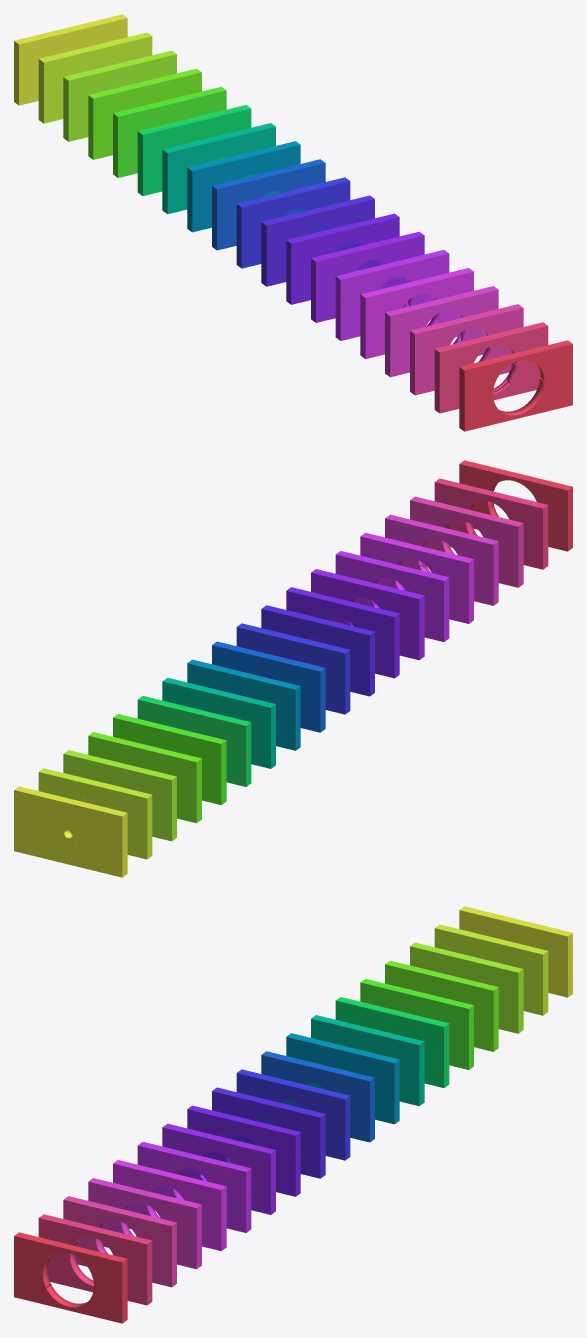
Rendered from FinalHoles.fbx.
3 views of the same model, one above another, from view 1: azimuth 30°, elevation 25°; view 2: azimuth 150°, elevation 25°; view 3: azimuth 330°, elevation 25° (orthographic).
Visible parts, largest first — view 1: Cube.007_cell.004, Cube.012_cell.001, Cube.014_cell, Cube.013_cell, Cube.016_cell.002, Cube.011_cell, Cube.017_cell, Cube.002_cell.003, Cube.015_cell.003, Cube.002_cell.001, Cube.005_cell.001, Cube.012_cell.003 (+44 smaller); view 2: Cube.019_cell.001, Cube.007_cell.004, Cube.012_cell.001, Cube.019_cell, Cube.017_cell, Cube.014_cell, Cube.011_cell, Cube.015_cell.003, Cube.016_cell.002, Cube.013_cell, Cube.002_cell.003, Cube.002_cell.001 (+43 smaller); view 3: Cube.005_cell.001, Cube.018_cell, Cube.012_cell.003, Cube.002_cell.001, Cube.006_cell.001, Cube.004_cell, Cube.009_cell.002, Cube.019_cell.001, Cube.015_cell.003, Cube.002_cell.003, Cube_cell.004, Cube.010_cell.003 (+46 smaller).
Part boxes in pixels (<box>): Cube.007_cell.004: <box>311,245,367,319</box>; Cube.012_cell.001: <box>187,157,238,232</box>; Cube.014_cell: <box>137,120,196,188</box>; Cube.013_cell: <box>162,145,212,214</box>; Cube.016_cell.002: <box>88,90,134,159</box>; Cube.011_cell: <box>212,180,258,250</box>; Cube.017_cell: <box>63,67,110,138</box>; Cube.002_cell.003: <box>434,345,495,413</box>; Cube.015_cell.003: <box>143,86,226,129</box>; Cube.002_cell.001: <box>449,322,548,362</box>; Cube.005_cell.001: <box>401,268,473,337</box>; Cube.012_cell.003: <box>229,141,300,178</box>; Cube.019_cell.001: <box>14,786,87,832</box>; Cube.007_cell.004: <box>365,583,424,657</box>; Cube.012_cell.001: <box>245,676,300,750</box>; Cube.019_cell: <box>14,823,105,873</box>; Cube.017_cell: <box>120,769,176,841</box>; Cube.014_cell: <box>197,710,251,775</box>; Cube.011_cell: <box>279,663,325,732</box>; Cube.015_cell.003: <box>113,714,196,756</box>; Cube.016_cell.002: <box>155,753,201,823</box>; Cube.013_cell: <box>233,698,275,768</box>; Cube.002_cell.003: <box>508,501,548,569</box>; Cube.002_cell.001: <box>434,478,533,522</box>; Cube.005_cell.001: <box>158,1169,226,1251</box>; Cube.018_cell: <box>495,942,548,1015</box>; Cube.012_cell.003: <box>324,1043,399,1101</box>; Cube.002_cell.001: <box>53,1217,152,1275</box>; Cube.006_cell.001: <box>205,1161,251,1232</box>; Cube.004_cell: <box>154,1196,201,1269</box>; Cube.009_cell.002: <box>270,1102,325,1166</box>; Cube.019_cell.001: <box>499,915,572,968</box>; Cube.015_cell.003: <box>386,986,473,1020</box>; Cube.002_cell.003: <box>38,1214,93,1292</box>; Cube_cell.004: <box>91,1258,127,1323</box>; Cube.010_cell.003: <box>286,1081,350,1131</box>.
Bounding box in the file's own units: 506 × 273 × 3641.
Materials: 1 (1 with a texture image).
